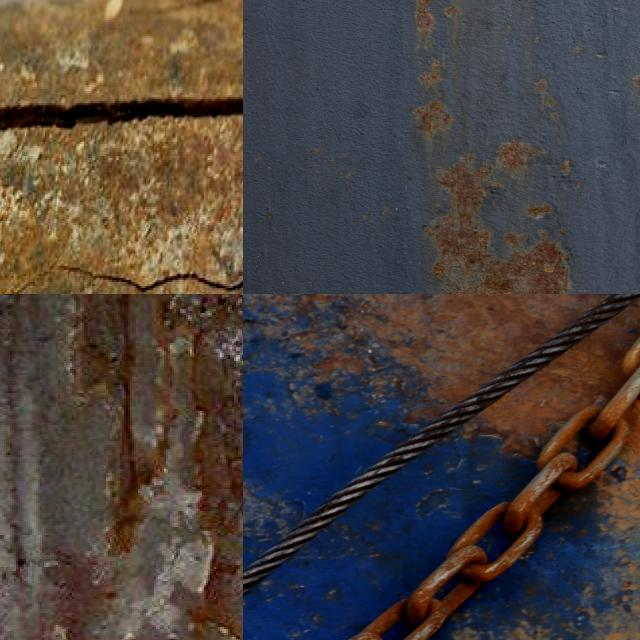Crack: (0, 94, 243, 132), (69, 268, 243, 292)
Uniform Corrosion: (313, 294, 604, 400), (482, 294, 640, 451), (348, 505, 505, 640), (427, 155, 569, 294), (462, 507, 542, 583), (504, 454, 576, 535), (556, 418, 629, 490), (537, 405, 602, 468), (589, 369, 640, 440), (414, 102, 452, 139), (497, 140, 540, 171), (527, 488, 562, 524), (622, 336, 640, 373), (415, 0, 433, 31)
